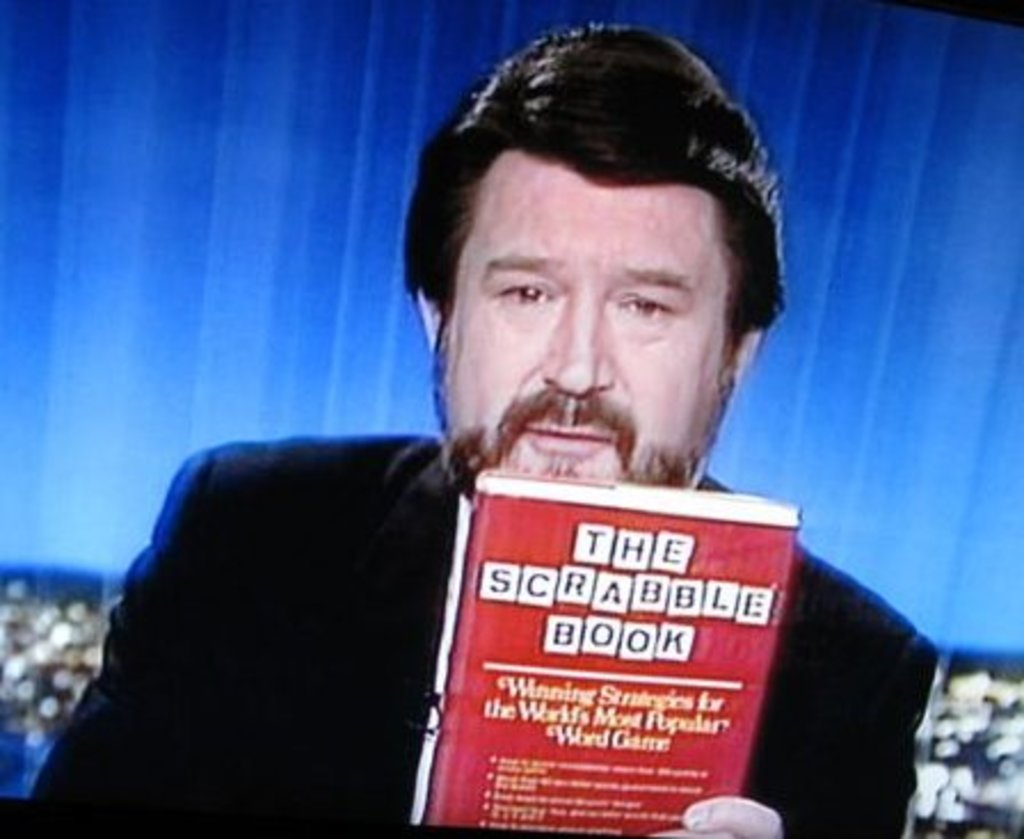Human_hand: (650, 798, 783, 837)
